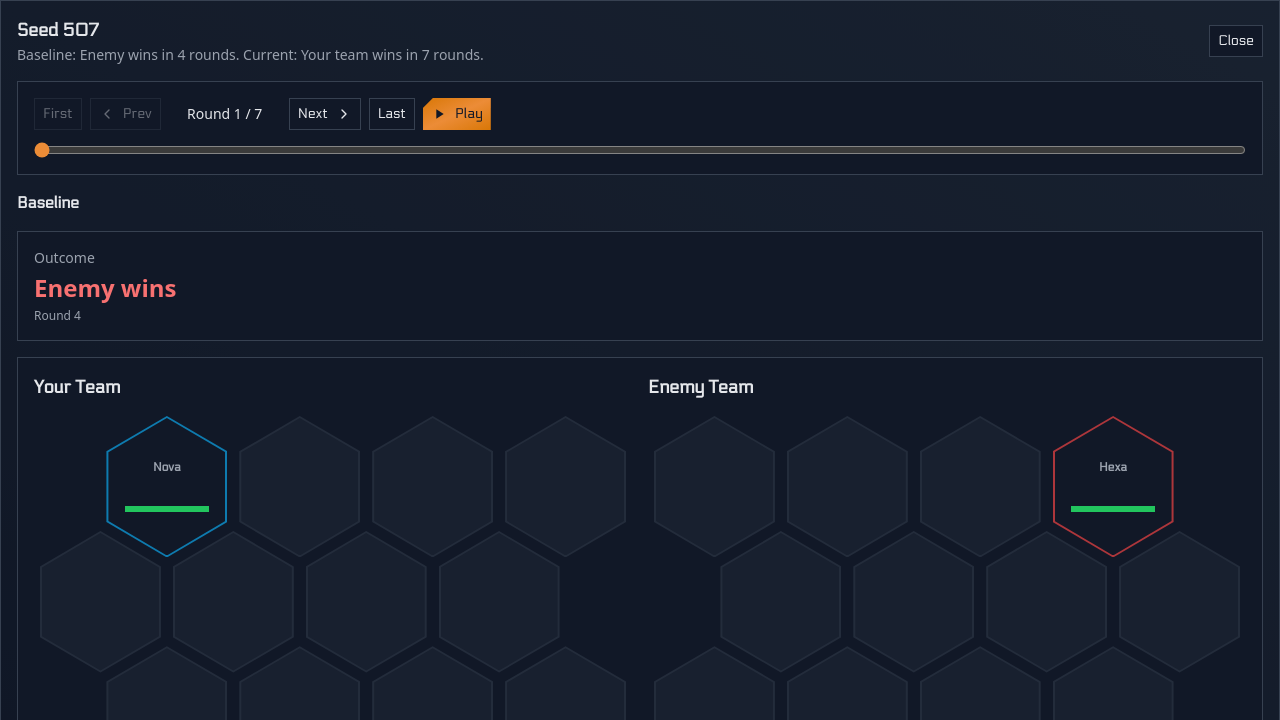
Test: DivergencePlayback › advances both fights together, and the shorter one holds at its last round
The image size is (1280, 720).
Step 1. Click the button with aria-label "Next round" → (325, 114), box x1=289 y1=98 x2=361 y2=130
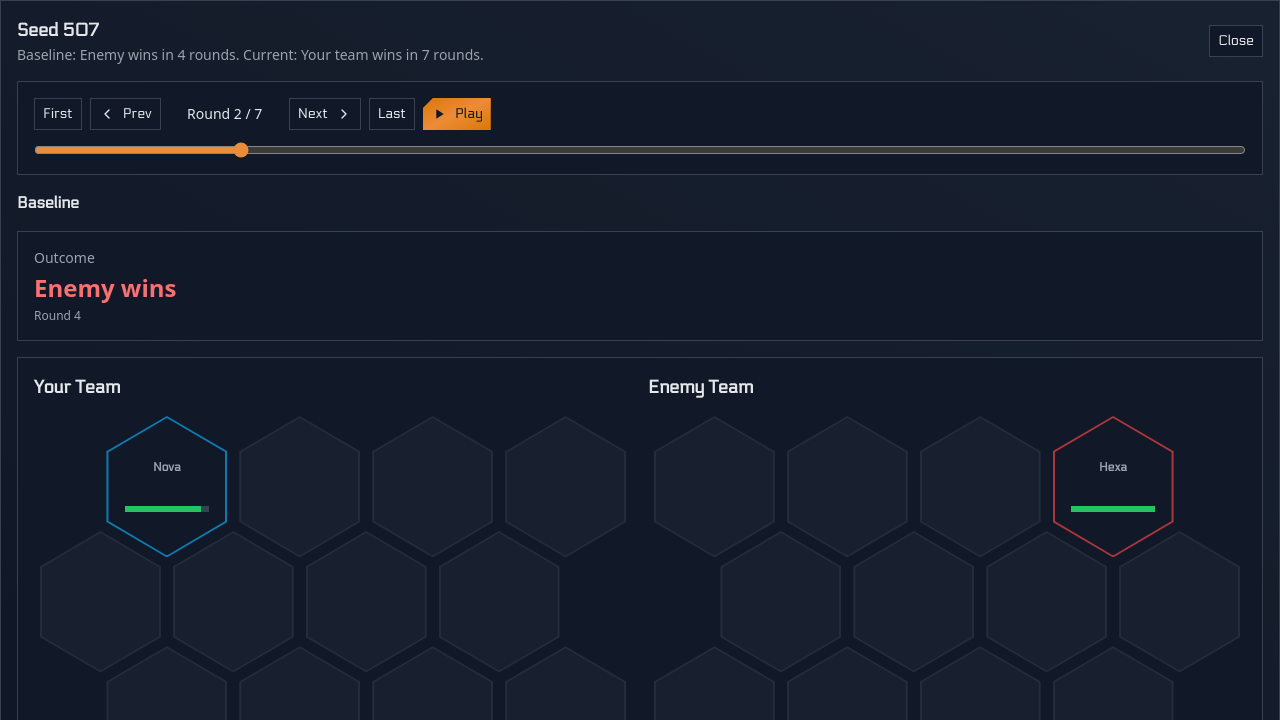
Step 2. Click the button with aria-label "Next round" → (325, 114), box x1=289 y1=98 x2=361 y2=130
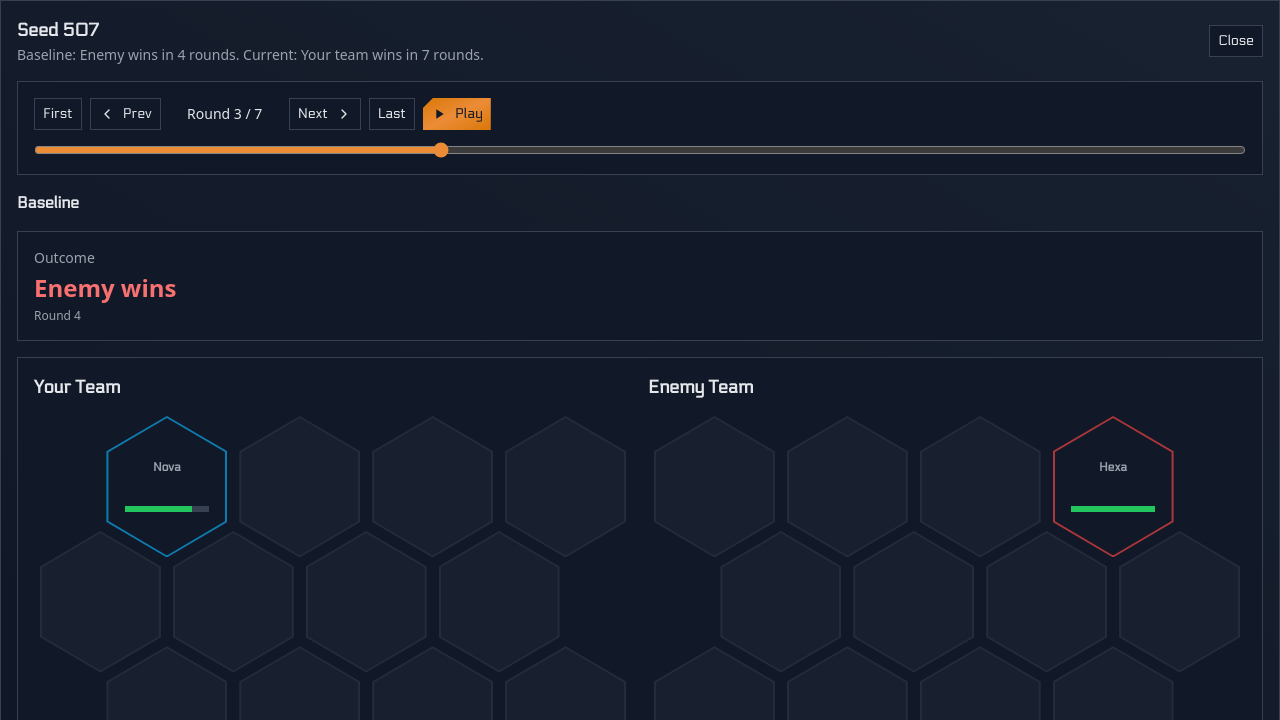
Step 3. Click the button with aria-label "Next round" → (325, 114), box x1=289 y1=98 x2=361 y2=130
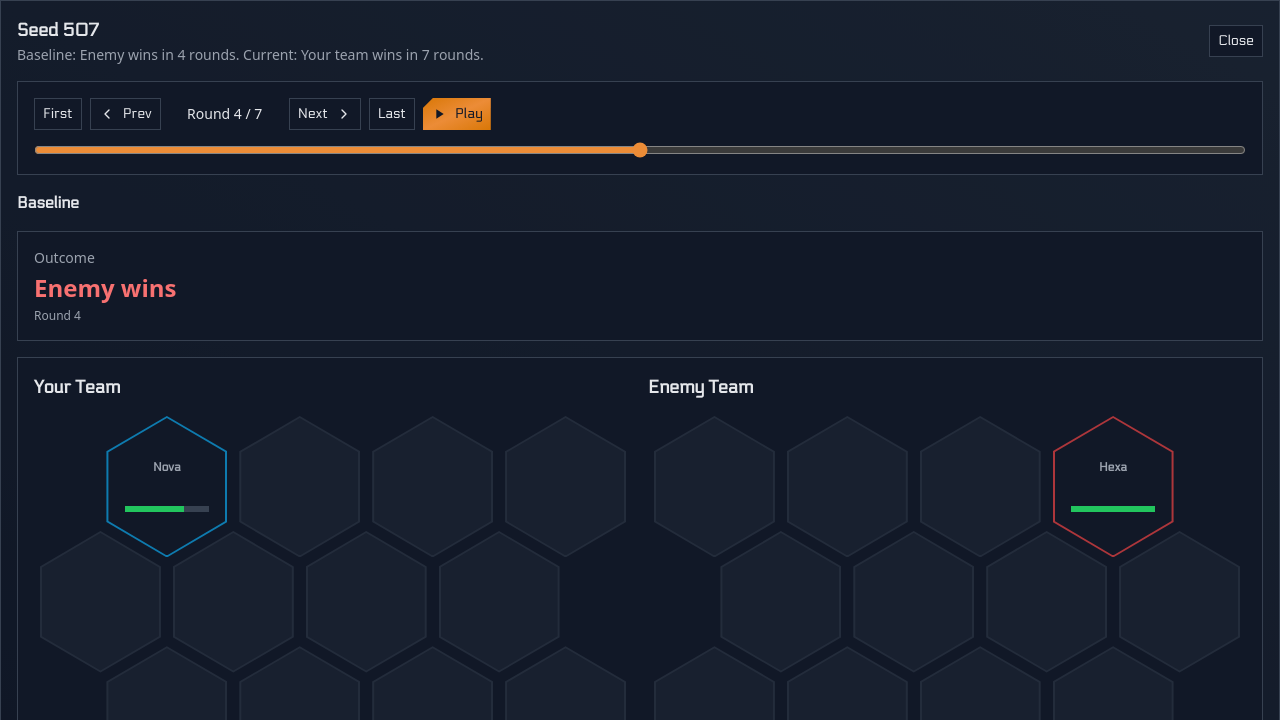
Step 4. Click the button with aria-label "Next round" → (325, 114), box x1=289 y1=98 x2=361 y2=130
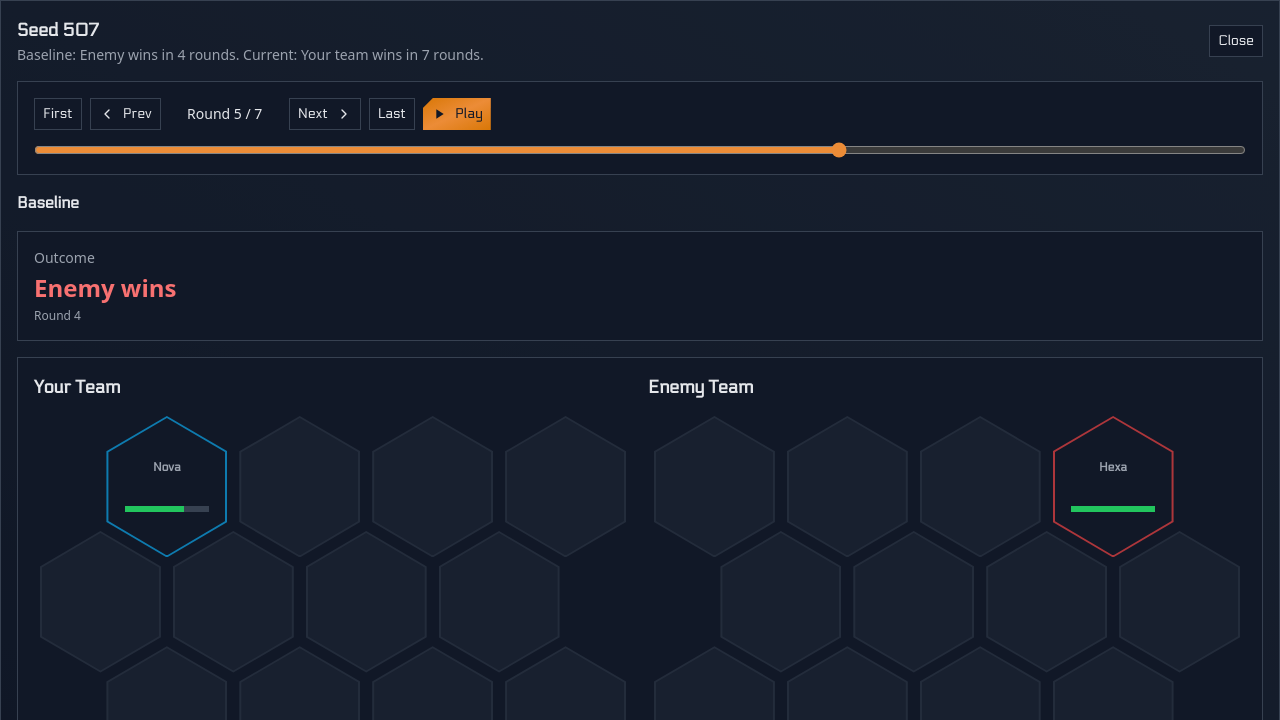
Step 5. Click the button with aria-label "Next round" → (325, 114), box x1=289 y1=98 x2=361 y2=130
(page scrolled)
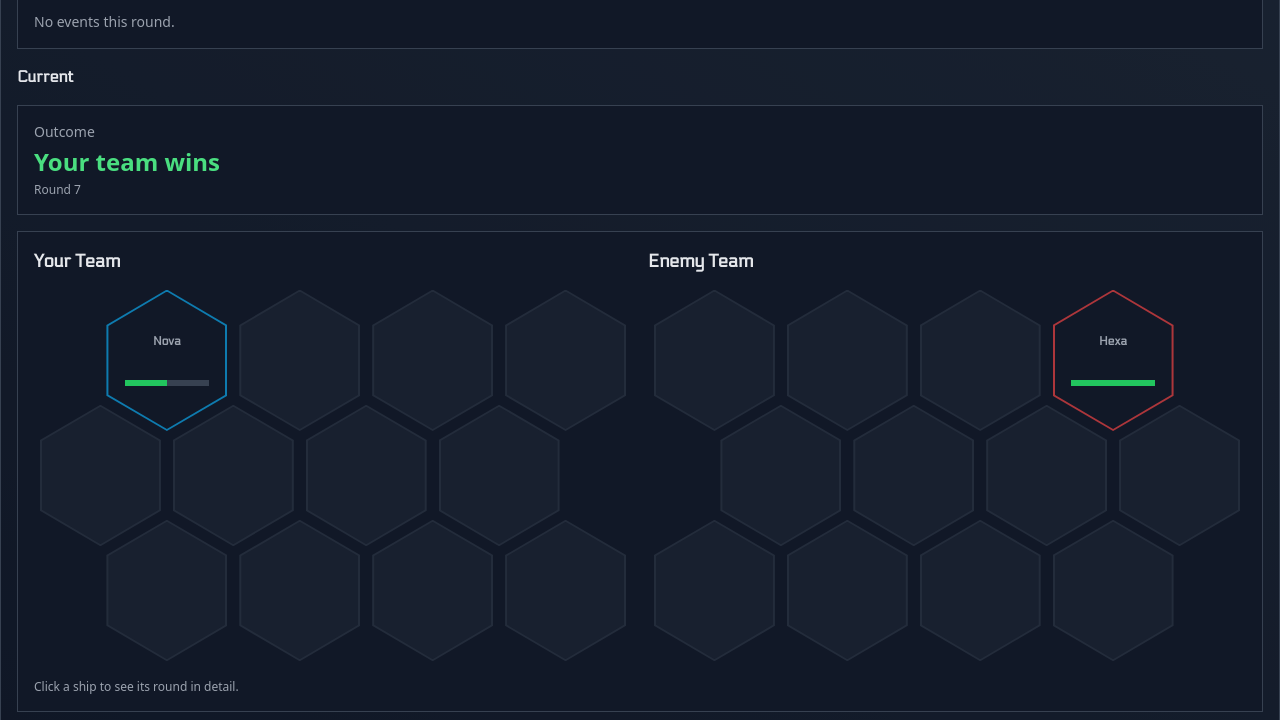
Check: the button with aria-label "Nova at T1, 50% HP" is shown, box x1=106 y1=290 x2=227 y2=431
